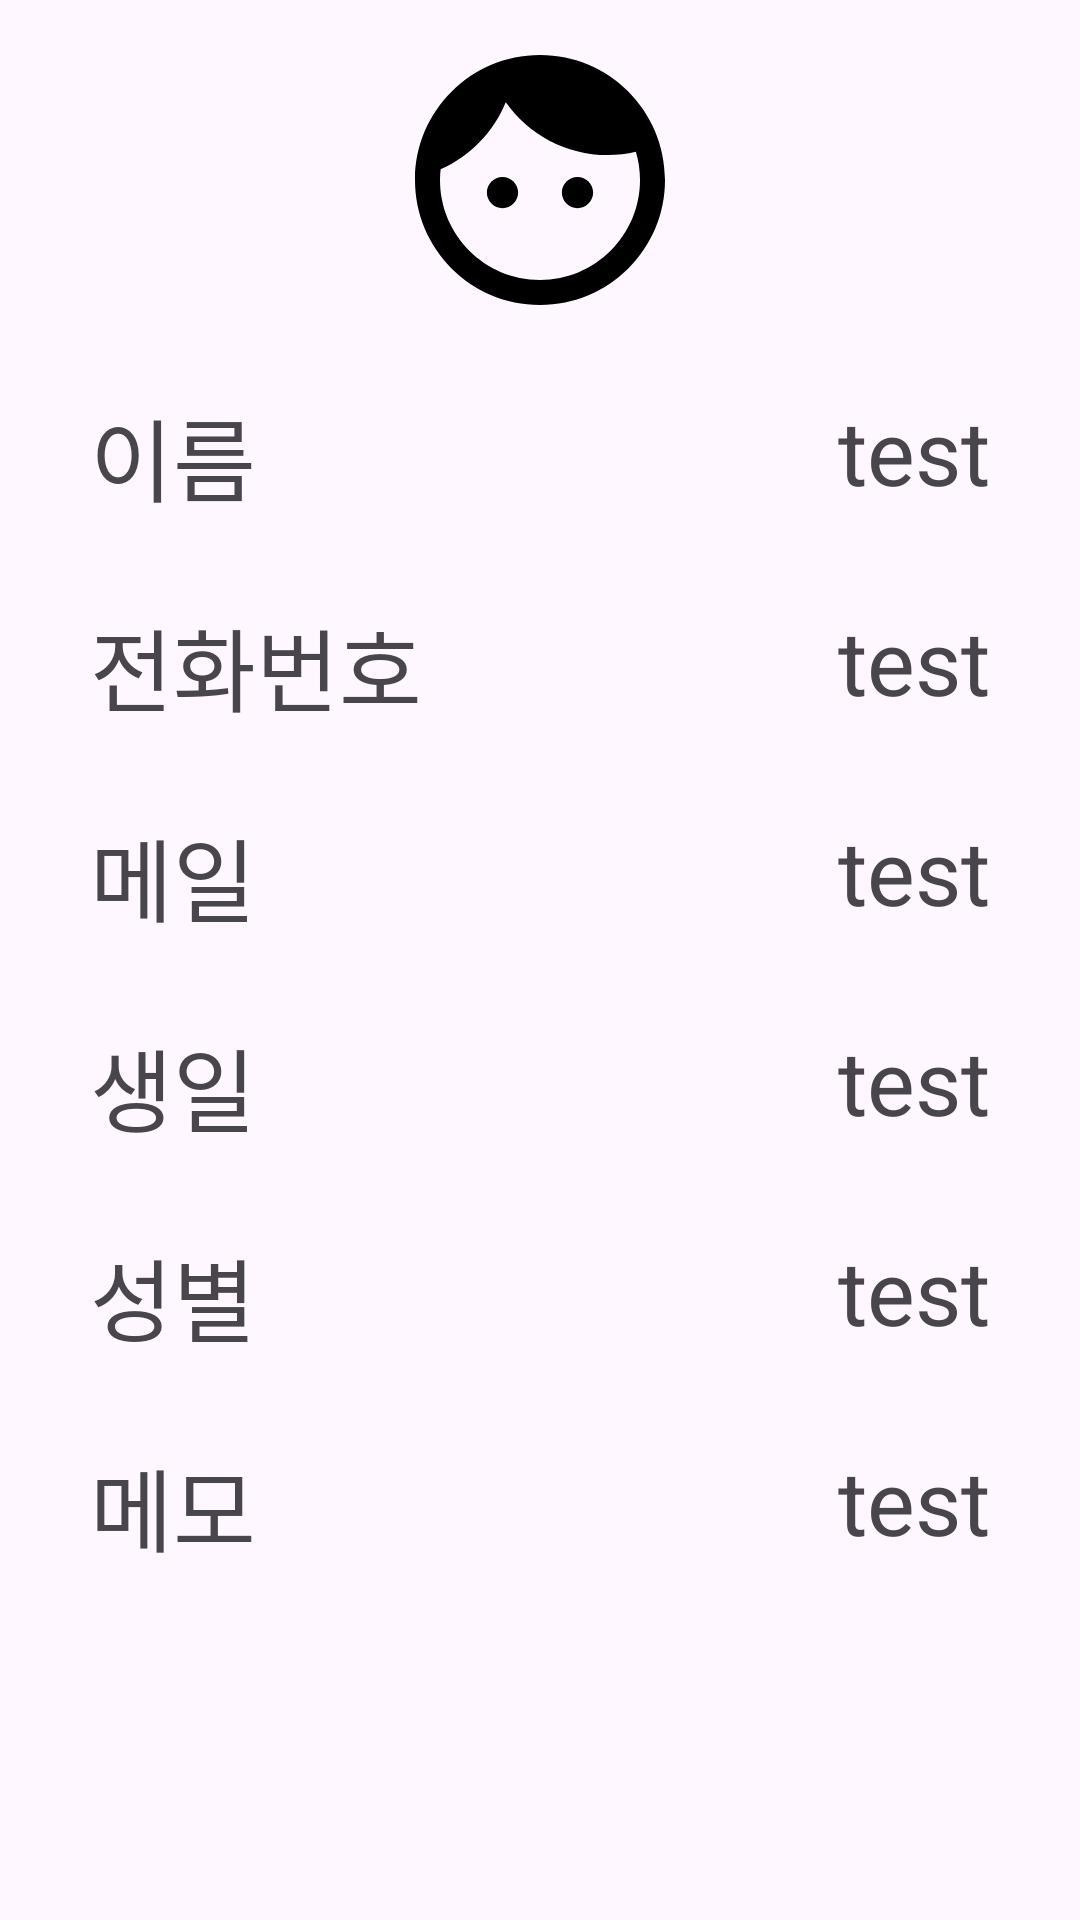

Icon bounding boxes for this 1080×1920 phone screenshot, format (x1, y1, x2, y2):
face: (415, 55, 665, 305)
